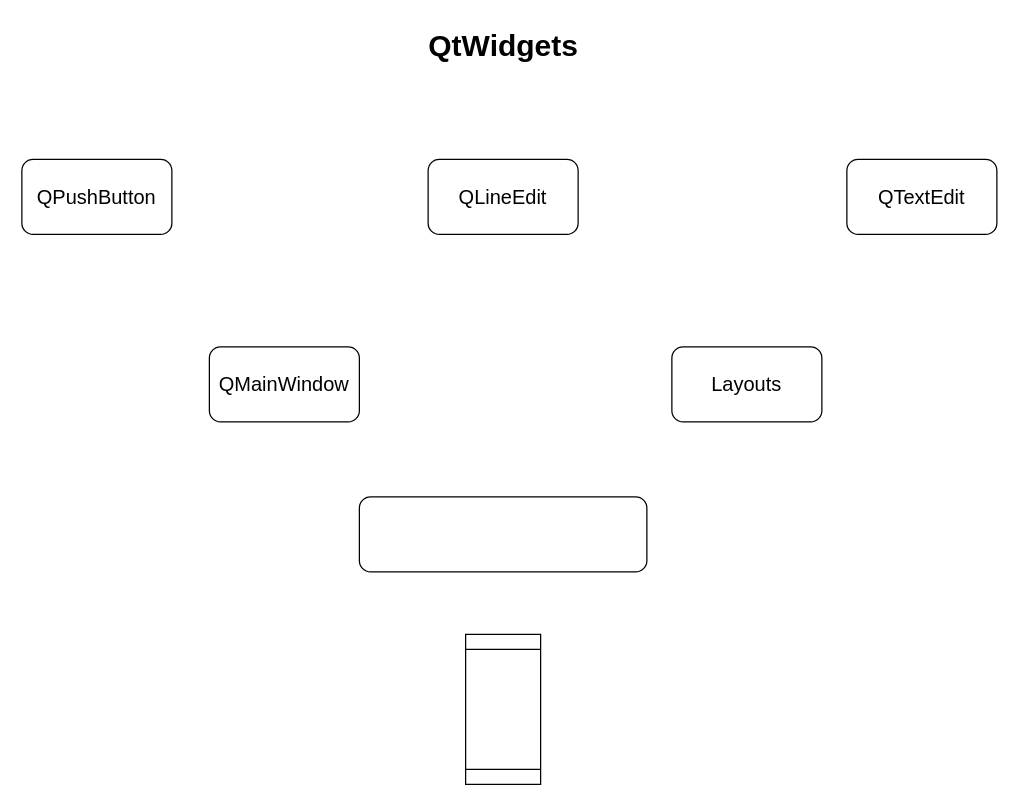
Image size: 1019x806. Some labels were removed from this diagram. Each missing label, with the centre of its shape:
And More...: the point at 502,708
Size Policies and Stretches: the point at 502,534
